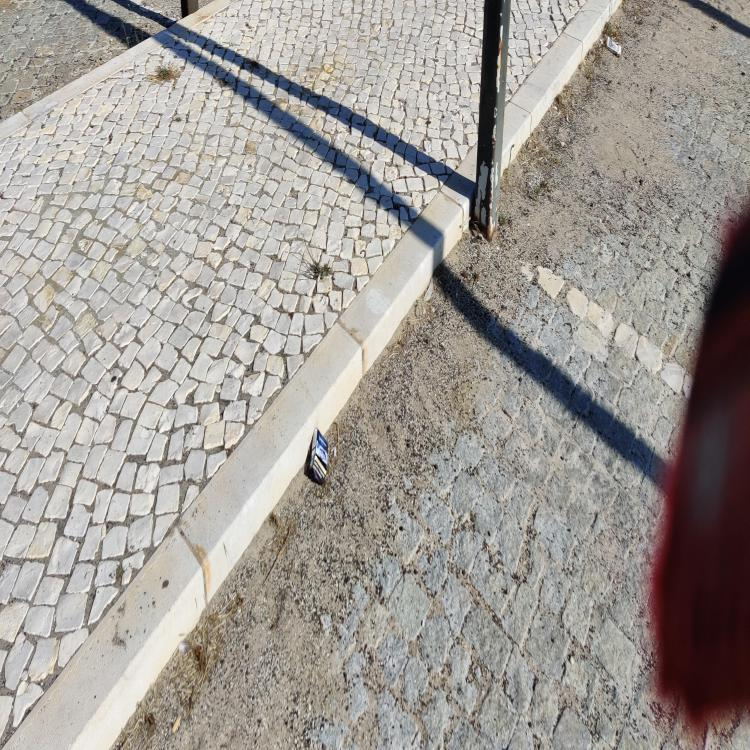Cigarette: (172, 713, 182, 731), (566, 113, 569, 122), (334, 448, 336, 456)
Other carton: (310, 429, 328, 487), (606, 36, 622, 57)
